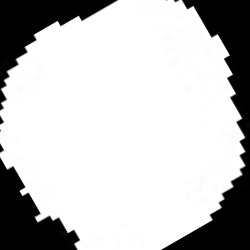spot: (1, 1, 247, 249)
